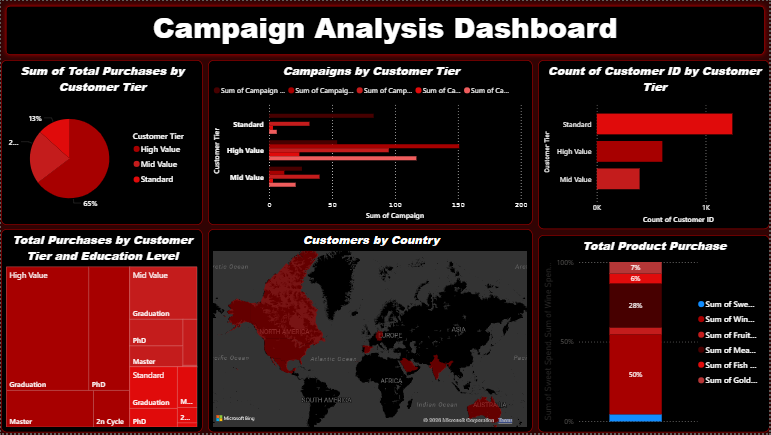

The page's visual inventory and layout, read from the dashboard file:
{"tool":"powerbi","page":{"name":"Page 1","canvas":[1280,720],"ordinal":0},"visuals":[{"type":"filledMap","title":"Customers by Country","fields":{"Category":["marketing_data - marketing_data csv (1).Country"]},"box":[344.8,380.5,541.4,339.1],"z":0},{"type":"hundredPercentStackedColumnChart","title":"Total Product Purchase","fields":{"Y":["Sum(marketing_data - marketing_data csv (1).Sweet Spend)","Sum(marketing_data - marketing_data csv (1).Wine Spend)","Sum(marketing_data - marketing_data csv (1).Fruit Spend)","Sum(marketing_data - marketing_data csv (1).Meat Spend)","Sum(marketing_data - marketing_data csv (1).Fish Spend)","Sum(marketing_data - marketing_data csv (1).Gold Spend)"]},"box":[894.3,390.8,386.2,328.7],"z":1000},{"type":"treemap","title":" Total Purchases by Customer Tier and Education Level","fields":{"Group":["marketing_data - marketing_data csv (1).Customer Tier"],"Values":["Sum(marketing_data - marketing_data csv (1).Total Purchases)"],"Details":["marketing_data - marketing_data csv (1).Education Level"]},"box":[0,380.5,335.6,339.1],"z":2000},{"type":"pieChart","fields":{"Category":["marketing_data - marketing_data csv (1).Customer Tier"],"Y":["Sum(marketing_data - marketing_data csv (1).Total Purchases)"]},"box":[0,97.7,335.6,274.7],"z":3000},{"type":"clusteredBarChart","fields":{"Y":["CountNonNull(marketing_data - marketing_data csv (1).Customer ID)"],"Category":["marketing_data - marketing_data csv (1).Customer Tier"]},"box":[894.3,97.7,386.2,281.6],"z":4000},{"type":"clusteredBarChart","title":"Campaigns by Customer Tier","fields":{"Category":["marketing_data - marketing_data csv (1).Customer Tier"],"Y":["Sum(marketing_data - marketing_data csv (1).Campaign 1 Accepted)","Sum(marketing_data - marketing_data csv (1).Campaign 3 Accepted)","Sum(marketing_data - marketing_data csv (1).Campaign 2 Accepted)","Sum(marketing_data - marketing_data csv (1).Campaign 5 Accepted)","Sum(marketing_data - marketing_data csv (1).Campaign 4 Accepted)"]},"box":[344.8,97.7,541.4,274.7],"z":5000},{"type":"shape","box":[0,0,1280.5,97.7],"z":6000}]}

Visuals, with their boxes in screenshot pixels (x1, y1, x2, y2), scaled from the page's 1280x720 canvas onto the 771x435 screenshot:
"Customers by Country" filledMap: box=[208, 230, 534, 434]
"Total Product Purchase" hundredPercentStackedColumnChart: box=[539, 236, 770, 434]
" Total Purchases by Customer Tier and Education Level" treemap: box=[0, 230, 202, 434]
pieChart - marketing_data - marketing_data csv (1).Customer Tier x Sum(marketing_data - marketing_data csv (1).Total Purchases): box=[0, 59, 202, 225]
clusteredBarChart - CountNonNull(marketing_data - marketing_data csv (1).Customer ID) x marketing_data - marketing_data csv (1).Customer Tier: box=[539, 59, 770, 229]
"Campaigns by Customer Tier" clusteredBarChart: box=[208, 59, 534, 225]
shape: box=[0, 0, 770, 59]
